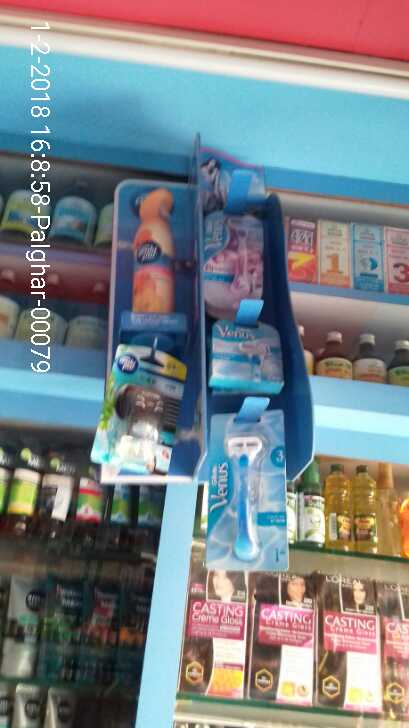beauty: (208, 415, 292, 574), (201, 212, 261, 315), (210, 319, 283, 390)
home: (110, 336, 180, 469), (133, 188, 178, 316)
